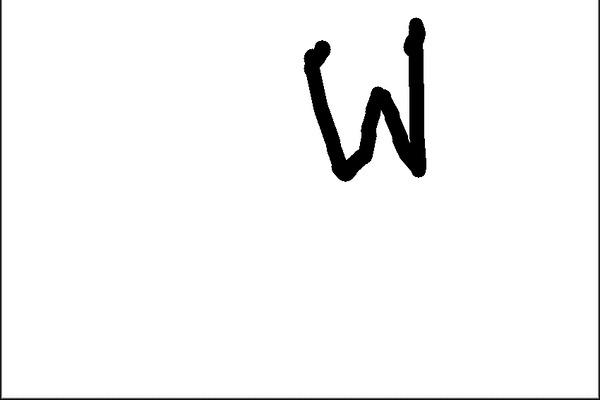w: (287, 4, 445, 193)
